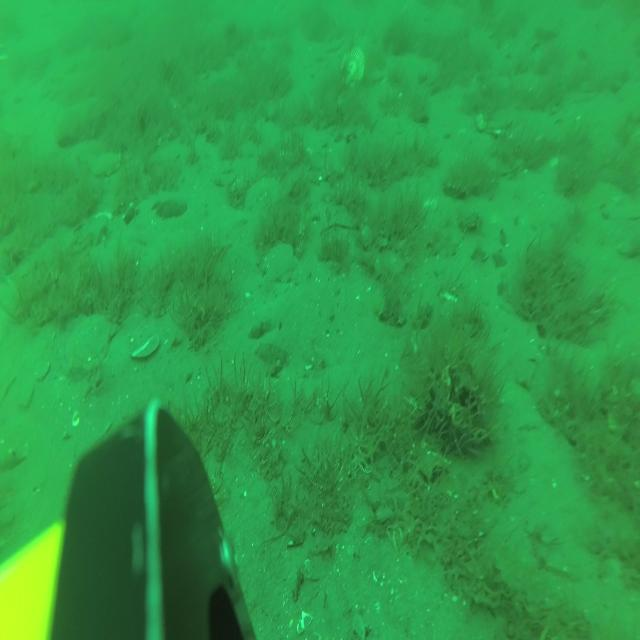scallop: (67, 317, 118, 369), (262, 241, 298, 280), (476, 104, 516, 136), (339, 47, 364, 88), (90, 151, 122, 177)
